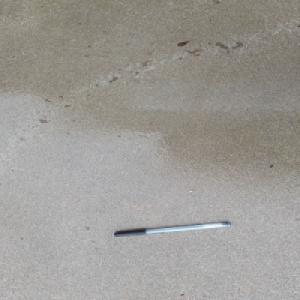Pen: (113, 221, 232, 237)
